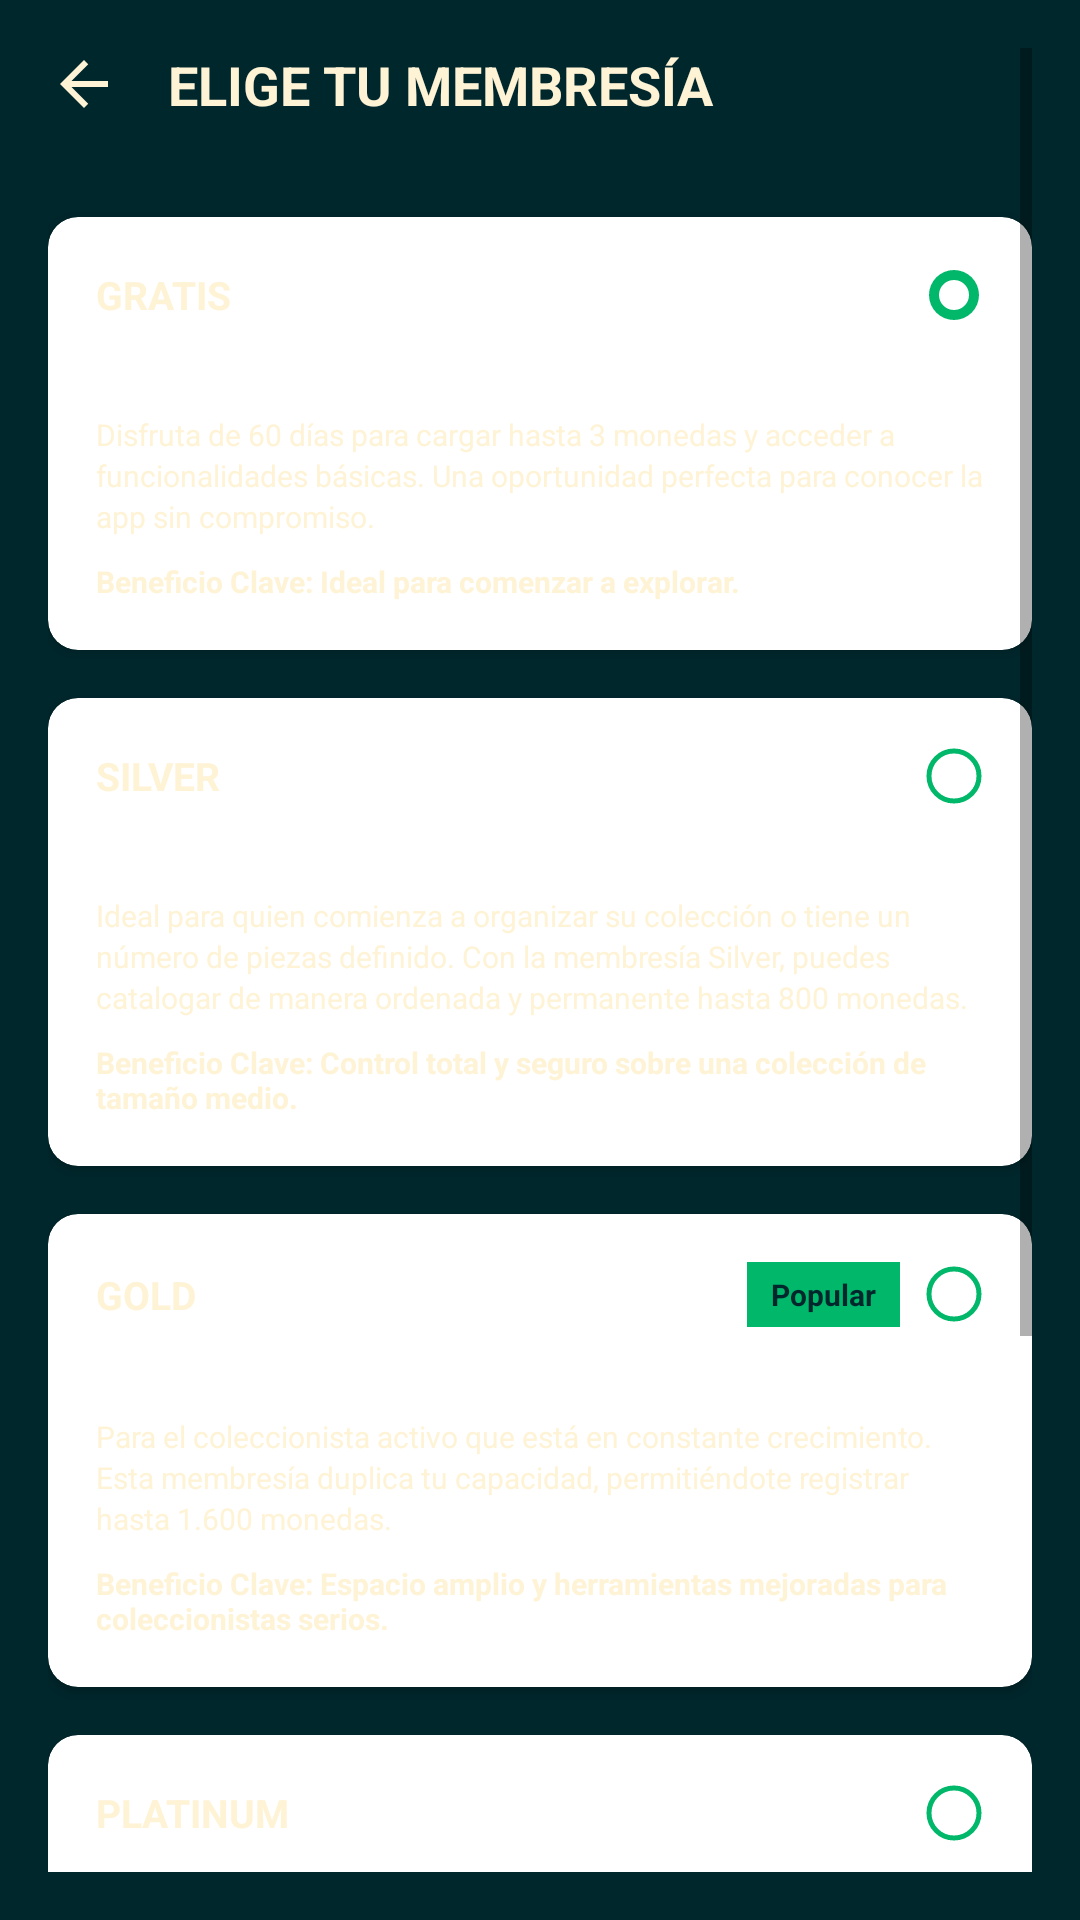

Screen size 1080px x 1920px. Icon name, then its center in pixels as [x,y]:
arrow back: [84,84]
radio: [954,295], [954,776], [954,1294], [954,1813]
